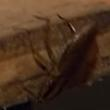cockroach: (36, 21, 96, 104)
